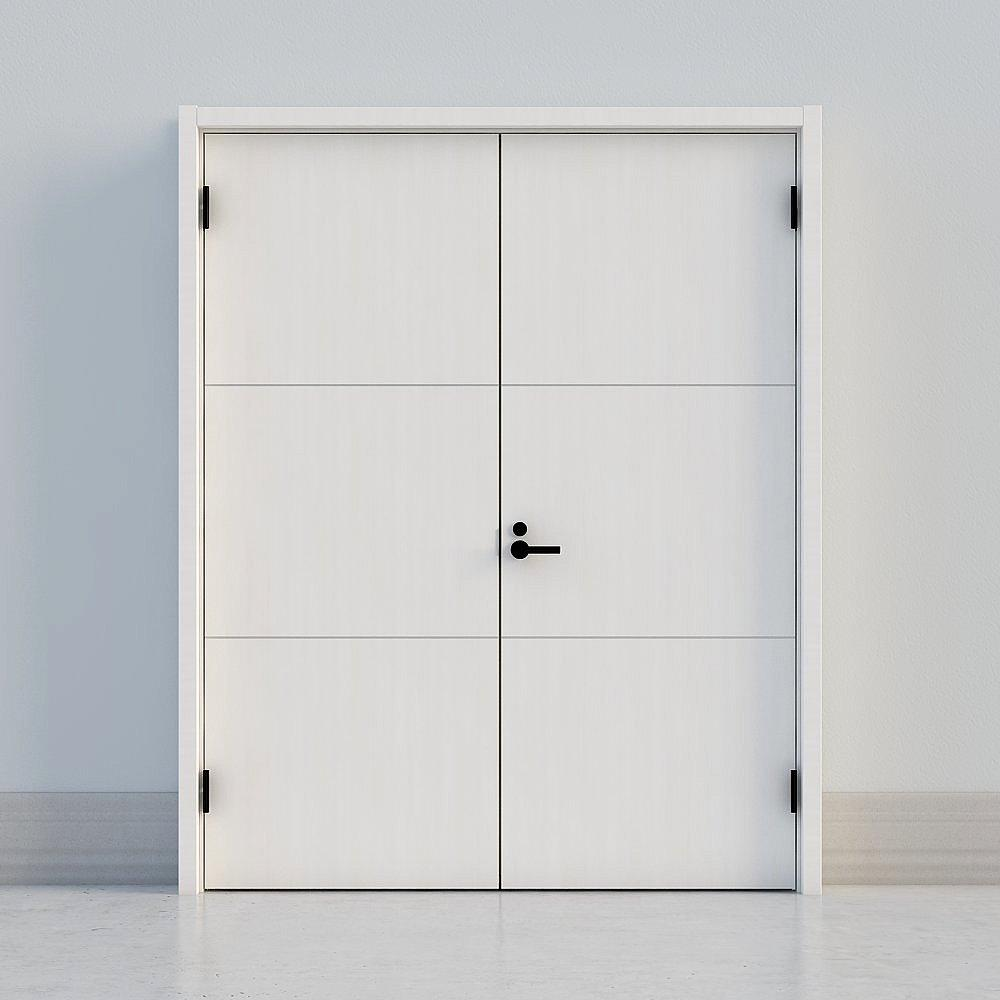door: (202, 130, 799, 902)
